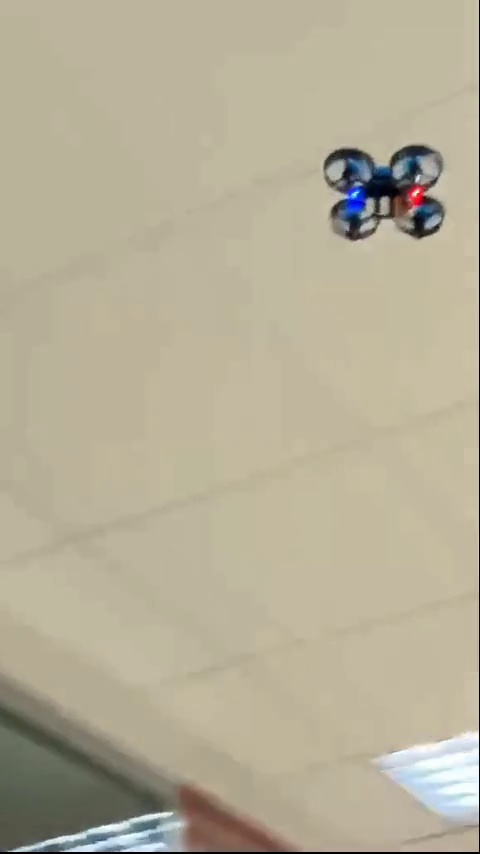drone: (322, 144, 445, 243)
